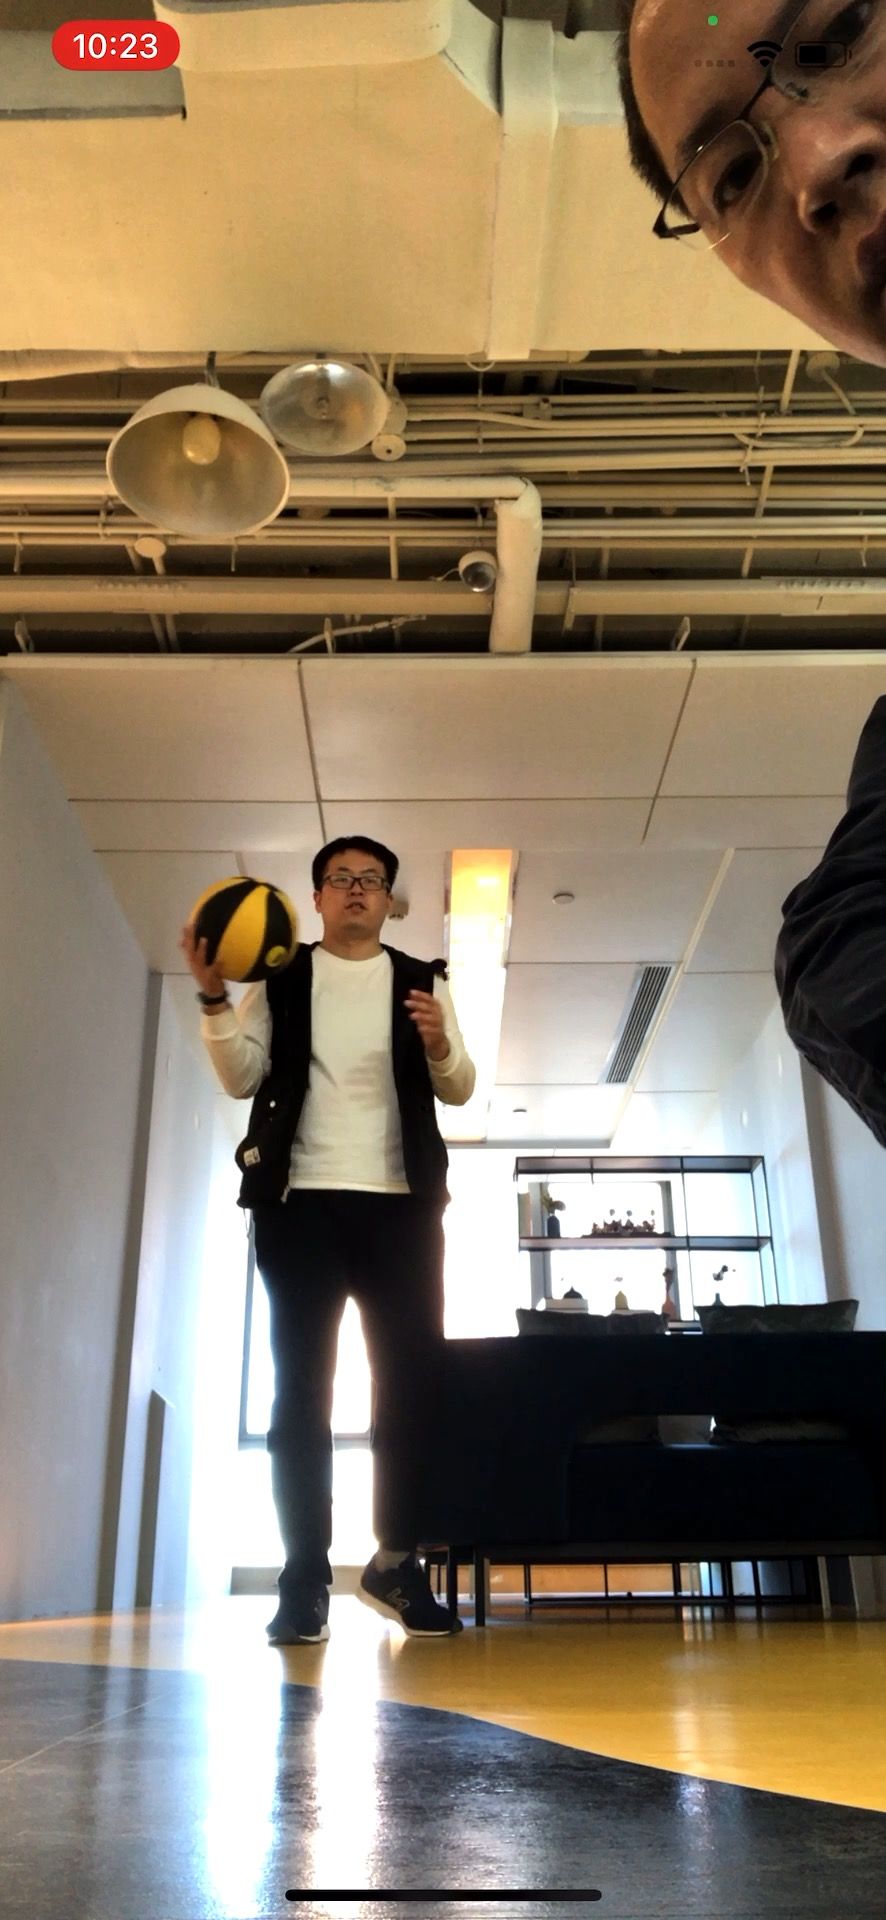ball: (186, 872, 302, 982)
